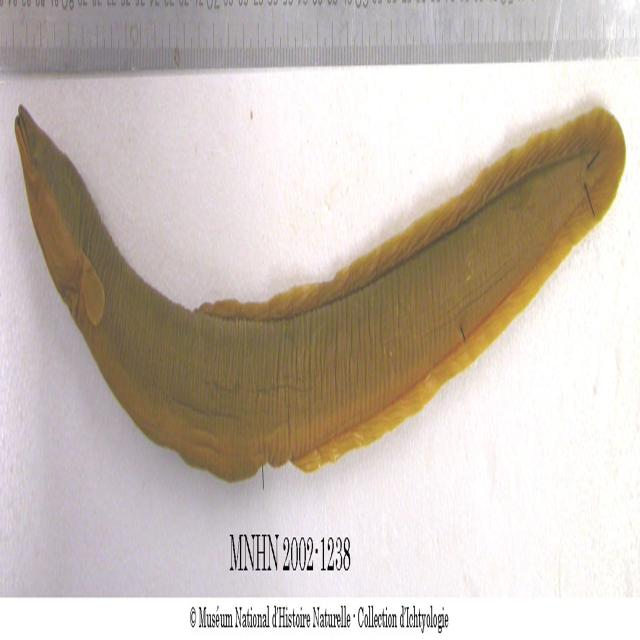Freshwater-Eel: (5, 56, 640, 506)
